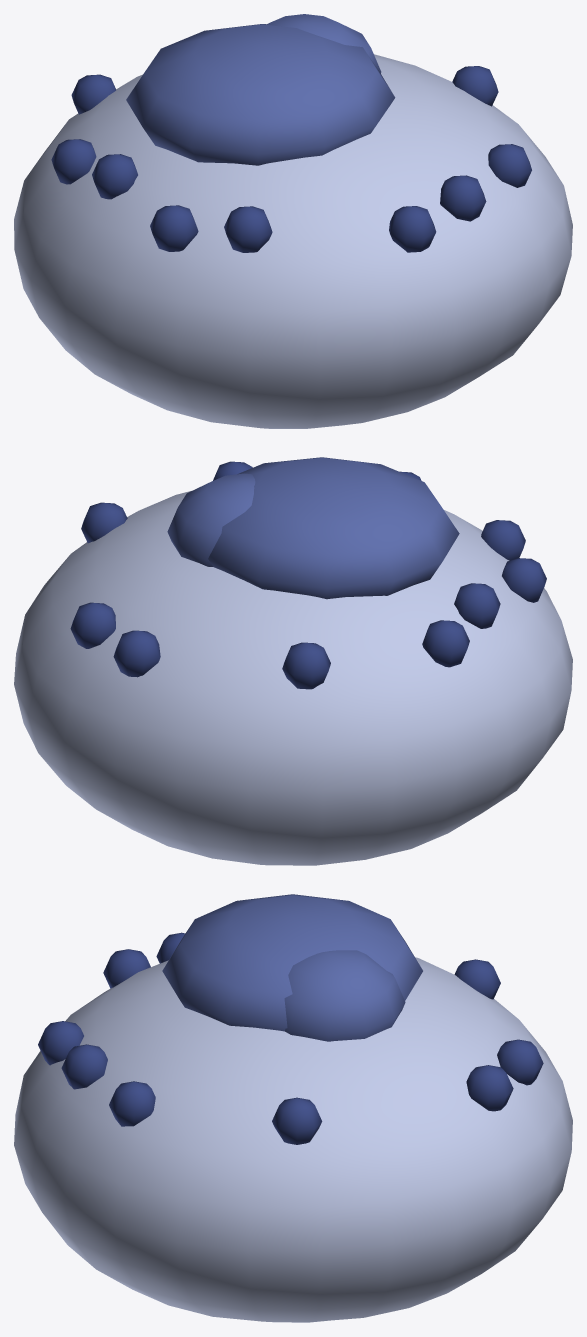
3 views of the same model, one above another, from view 1: azimuth 30°, elevation 25°; view 2: azimuth 150°, elevation 25°; view 3: azimuth 270°, elevation 25° (orthographic).
Visible parts, largest first — view 1: IW_L2_x_nk; view 2: IW_L2_x_nk; view 3: IW_L2_x_nk.
Boxes of the visible parts, bbox=[...] form: IW_L2_x_nk: bbox=[14, 14, 572, 428]; IW_L2_x_nk: bbox=[14, 457, 572, 865]; IW_L2_x_nk: bbox=[14, 894, 572, 1322].
Size of the model in its own units: 1.89 by 1.32 by 1.88.
